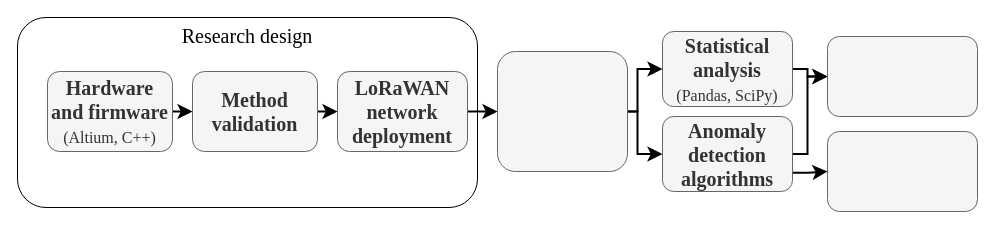
Some shapes in this 995 by 229 pixel diagram are drawn without their labels. The centre of each missing label's shape, as x and y in pixels:
Data pipeline & ingestion (Webhook, JavaScript, Python): the point at 562,111
Diagnostic and retrofit framework: the point at 902,171
Policy recommendations: the point at 902,76
